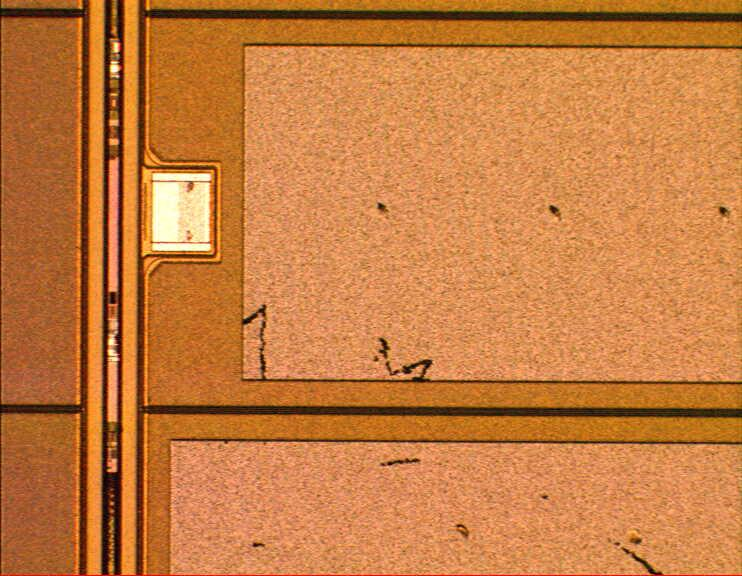SCRATCH: (236, 299, 673, 576)
